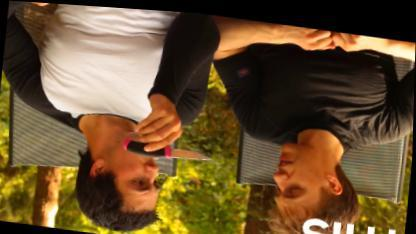knife: (118, 124, 220, 166)
